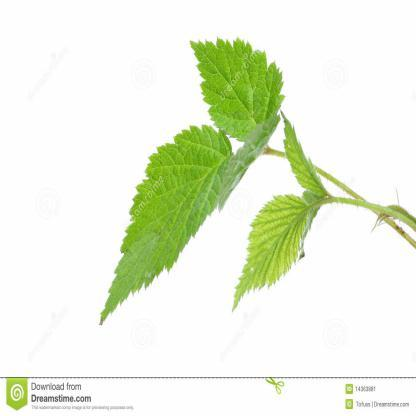Strawberry leaf: (94, 127, 239, 324), (226, 192, 318, 318), (186, 34, 286, 138)
